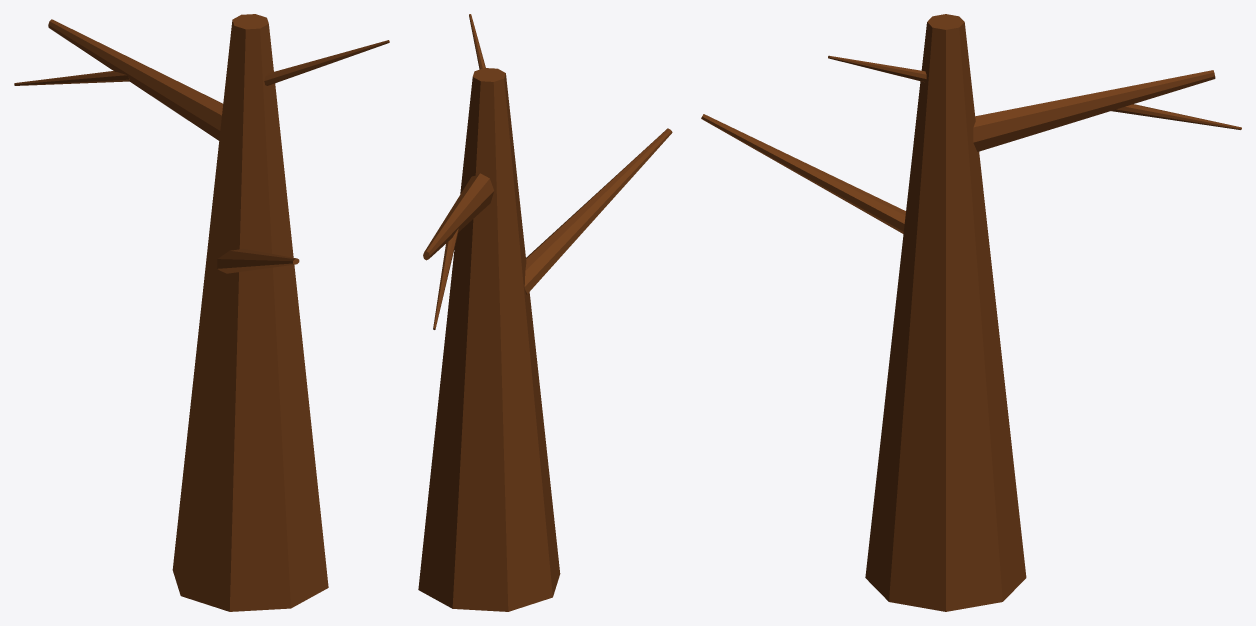
The model's file is tree3C.fbx.
3 views of the same model, side by side, from view 1: azimuth 30°, elevation 25°; view 2: azimuth 150°, elevation 25°; view 3: azimuth 270°, elevation 25° (orthographic). The views are drawn at different scales.
Parts seen in each view (by area): view 1: Cylinder.080; view 2: Cylinder.080; view 3: Cylinder.080.
Boxes of the visible parts, x1,y1,x2,y2 form: Cylinder.080: (14, 14, 389, 611); Cylinder.080: (418, 14, 672, 611); Cylinder.080: (701, 14, 1241, 611).
Size of the model in its own units: 204 by 648 by 567.
